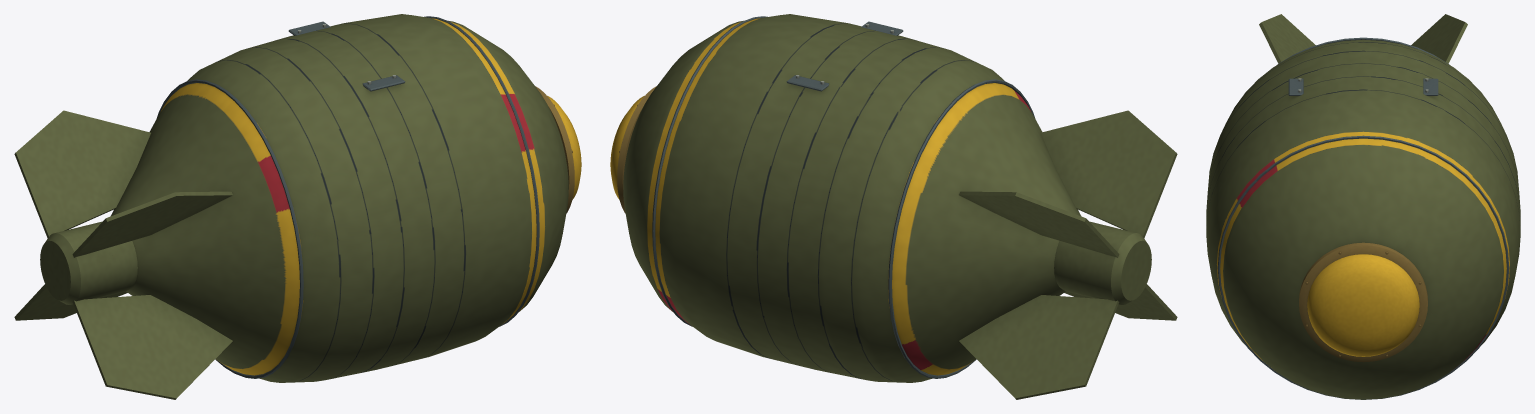
The model's file is bomb.obj.
3 views of the same model, side by side, from view 1: azimuth 30°, elevation 25°; view 2: azimuth 150°, elevation 25°; view 3: azimuth 270°, elevation 25° (orthographic). The views are drawn at different scales.
Parts seen in each view (by area): view 1: bomb_static_0; view 2: bomb_static_0; view 3: bomb_static_0.
Part boxes in pixels (left/top/right/bottom): bomb_static_0: left=14, top=14, right=581, bottom=399; bomb_static_0: left=610, top=14, right=1177, bottom=399; bomb_static_0: left=1206, top=14, right=1520, bottom=399.
Size of the model in its own units: 2.87 by 1.68 by 1.68.
Materials: 1 (1 with a texture image).
